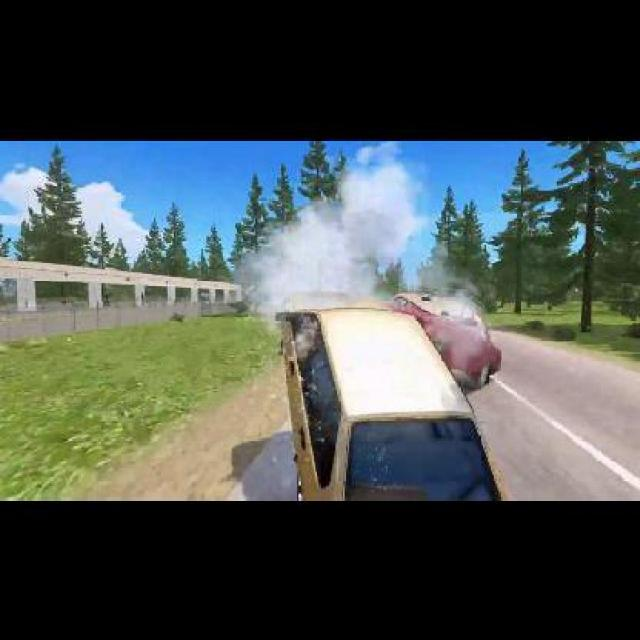accident: (272, 277, 503, 498)
